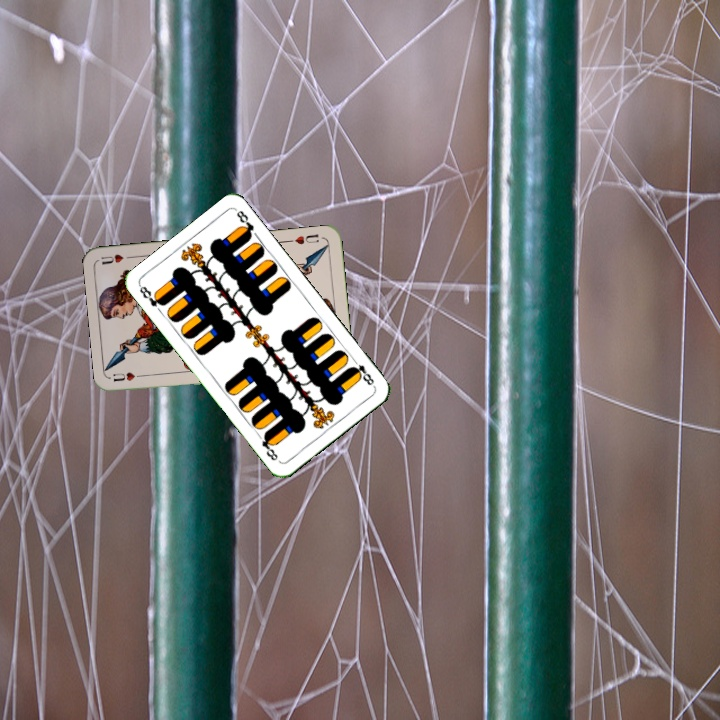E8: (347, 354, 377, 388), (135, 282, 168, 310)
HU: (109, 368, 149, 384), (285, 230, 321, 247)
